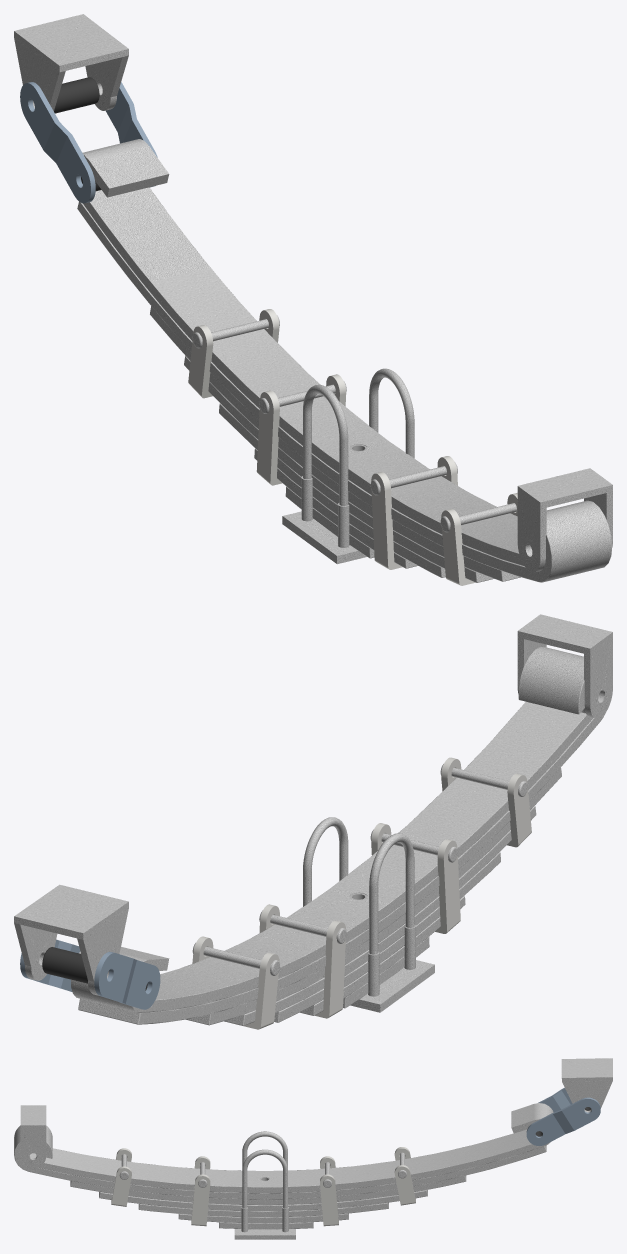
The model's file is Leaf Spring.gltf.
3 views of the same model, one above another, from view 1: azimuth 30°, elevation 25°; view 2: azimuth 150°, elevation 25°; view 3: azimuth 270°, elevation 25° (orthographic). The views are drawn at different scales.
Visible parts, largest first — view 1: Solid1009_1, Solid1033, Solid2, Solid1035, Solid2002, Solid1011, Solid1011_node, Solid1010_node, Solid1010, Solid2001, Solid1034; view 2: Solid1009_1, Solid1033, Solid2, Solid1035, Solid2002, Solid1011_node, Solid1011, Solid1010_node, Solid1010, Solid1034, Solid1010_1, Solid1011_1_node (+2 smaller); view 3: Solid1009_1, Solid2, Solid1033, Solid2001, Solid1035, Solid1011, Solid1011_node, Solid1010, Solid1010_node, Solid2002.
Part boxes in pixels (<box>): Solid1009_1: <box>77,139,612,582</box>; Solid1033: <box>14,14,128,111</box>; Solid2: <box>282,368,414,564</box>; Solid1035: <box>517,468,612,572</box>; Solid2002: <box>20,82,95,203</box>; Solid1011: <box>371,456,457,569</box>; Solid1011_node: <box>256,374,346,485</box>; Solid1010_node: <box>188,309,279,398</box>; Solid1010: <box>441,493,517,585</box>; Solid2001: <box>106,82,157,187</box>; Solid1034: <box>54,77,99,113</box>; Solid1009_1: <box>71,647,605,1025</box>; Solid1033: <box>14,884,128,995</box>; Solid2: <box>303,817,434,1012</box>; Solid1035: <box>517,614,612,718</box>; Solid2002: <box>94,951,160,1009</box>; Solid1011_node: <box>259,904,346,1018</box>; Solid1011: <box>371,823,460,933</box>; Solid1010_node: <box>192,936,279,1029</box>; Solid1010: <box>441,757,531,847</box>; Solid1034: <box>42,947,87,983</box>; Solid1010_1: <box>440,764,527,796</box>; Solid1011_1_node: <box>259,910,346,943</box>; Solid1009_1: <box>14,1103,553,1229</box>; Solid2: <box>234,1131,295,1239</box>; Solid1033: <box>561,1058,612,1112</box>; Solid2001: <box>526,1097,600,1145</box>; Solid1035: <box>20,1105,46,1168</box>; Solid1011: <box>191,1156,210,1226</box>; Solid1011_node: <box>320,1156,338,1226</box>; Solid1010: <box>111,1148,131,1206</box>; Solid1010_node: <box>394,1147,415,1205</box>; Solid2002: <box>538,1088,572,1112</box>.
Bounding box in the file's own units: 0.124 × 0.3427 × 1.17.
Materials: 6 (2 with a texture image).
